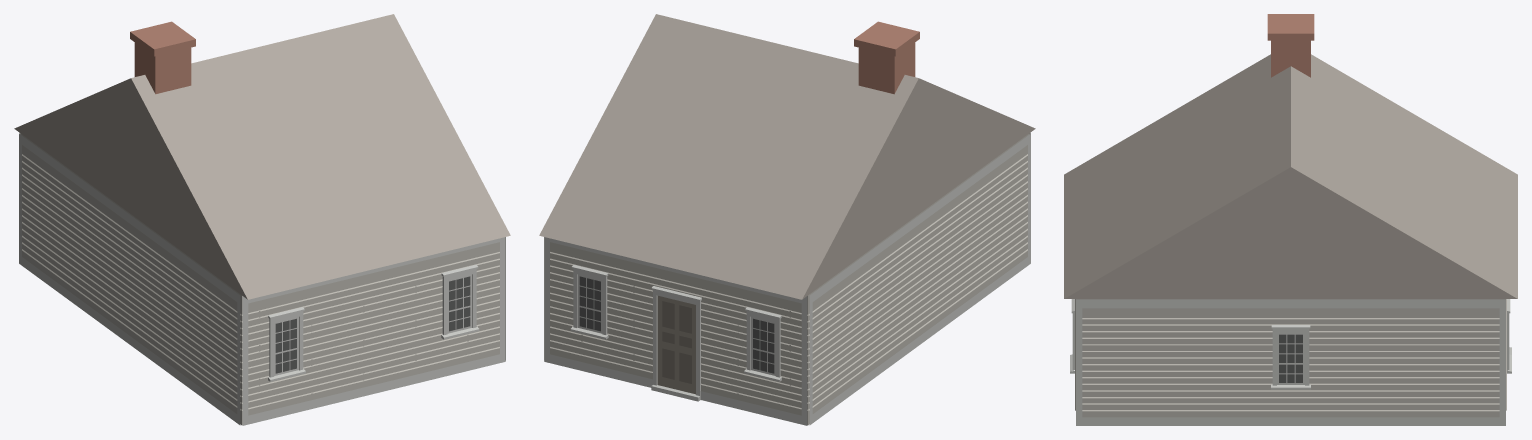
The model's file is recon_1835_blk_washington_clinton_d5_03__inferred_1835.glb.
3 views of the same model, side by side, from view 1: azimuth 30°, elevation 25°; view 2: azimuth 150°, elevation 25°; view 3: azimuth 270°, elevation 25° (orthographic). The views are drawn at different scales.
Visible parts, largest first — view 1: recon_1835_blk_washington_clinton_d5_03__inferred_1835; view 2: recon_1835_blk_washington_clinton_d5_03__inferred_1835; view 3: recon_1835_blk_washington_clinton_d5_03__inferred_1835.
Part boxes in pixels (x1=…): recon_1835_blk_washington_clinton_d5_03__inferred_1835: x1=14, y1=14, x2=510, y2=425; recon_1835_blk_washington_clinton_d5_03__inferred_1835: x1=539, y1=14, x2=1035, y2=425; recon_1835_blk_washington_clinton_d5_03__inferred_1835: x1=1064, y1=14, x2=1517, y2=425.
Size of the model in its own units: 6.32 by 6.74 by 9.49.
